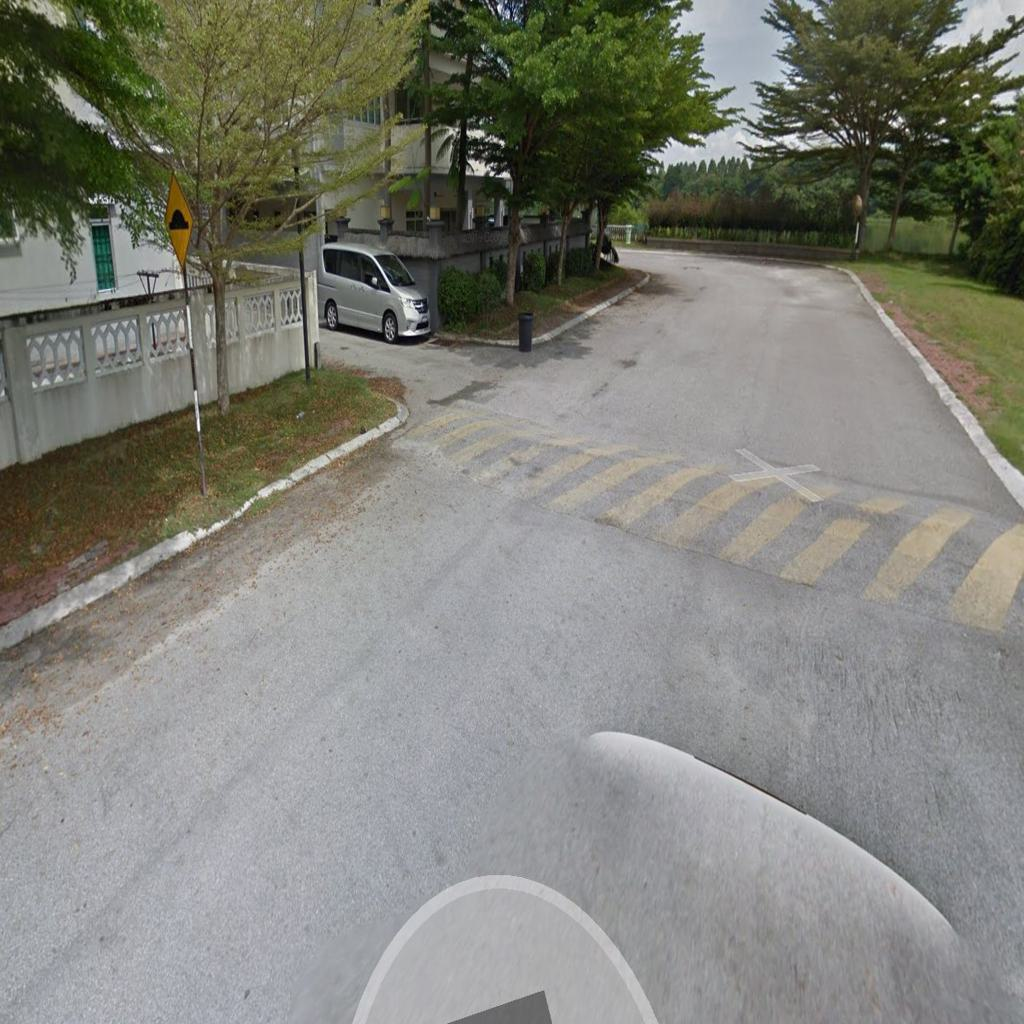Junction: (312, 279, 544, 444), (592, 214, 689, 287)
